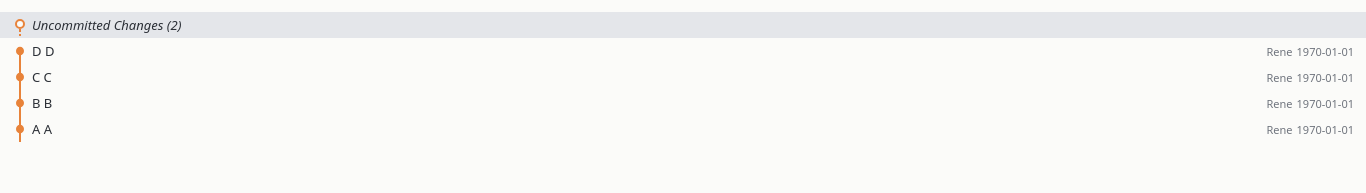
Test: CommitGraph › disables multi-commit pick and revert while an operation is pending
This screenshot has width=1366, height=193.
Click the option "D D Rene 1970-01-01" at (1325, 51), box [0,38,1365,64]
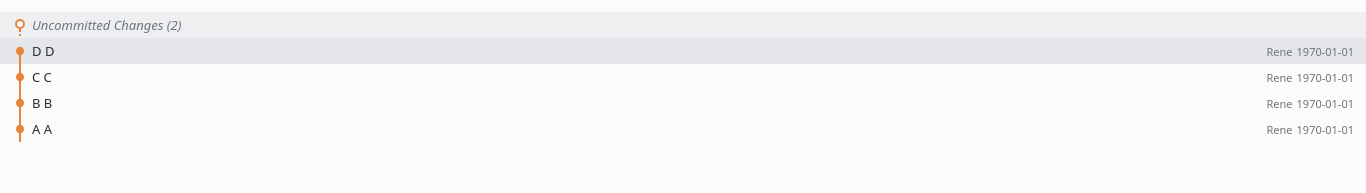
Click the option "C C Rene 1970-01-01" at (1325, 77), box [0,64,1365,90]
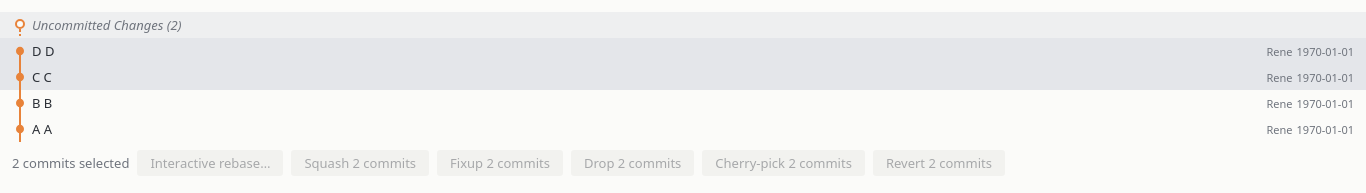
Expected: the button "Cherry-pick 2 commits" is disabled, [702,150,865,176]
Expected: the button "Revert 2 commits" is disabled, [873,150,1005,176]
